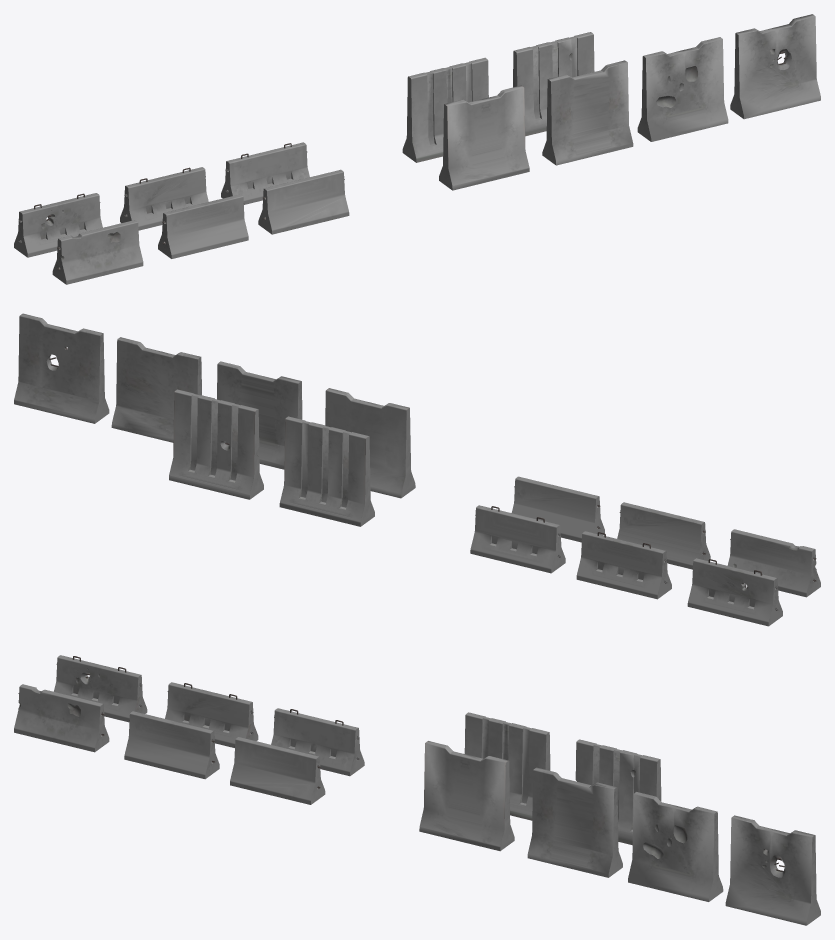
File: concrete-barriers.glb
3 views of the same model, one above another, from view 1: azimuth 30°, elevation 25°; view 2: azimuth 150°, elevation 25°; view 3: azimuth 330°, elevation 25° (orthographic). The views are drawn at different scales.
Parts seen in each view (by area): view 1: Cube.000_ConcreteBarriers_0; view 2: Cube.000_ConcreteBarriers_0; view 3: Cube.000_ConcreteBarriers_0.
Part boxes in pixels (x1,y1,x2,y2): Cube.000_ConcreteBarriers_0: (14,14,820,284); Cube.000_ConcreteBarriers_0: (14,313,820,626); Cube.000_ConcreteBarriers_0: (14,655,820,925).
Bounding box in the file's own units: 19.68 × 2 × 2.31.
Materials: 1 (1 with a texture image).
